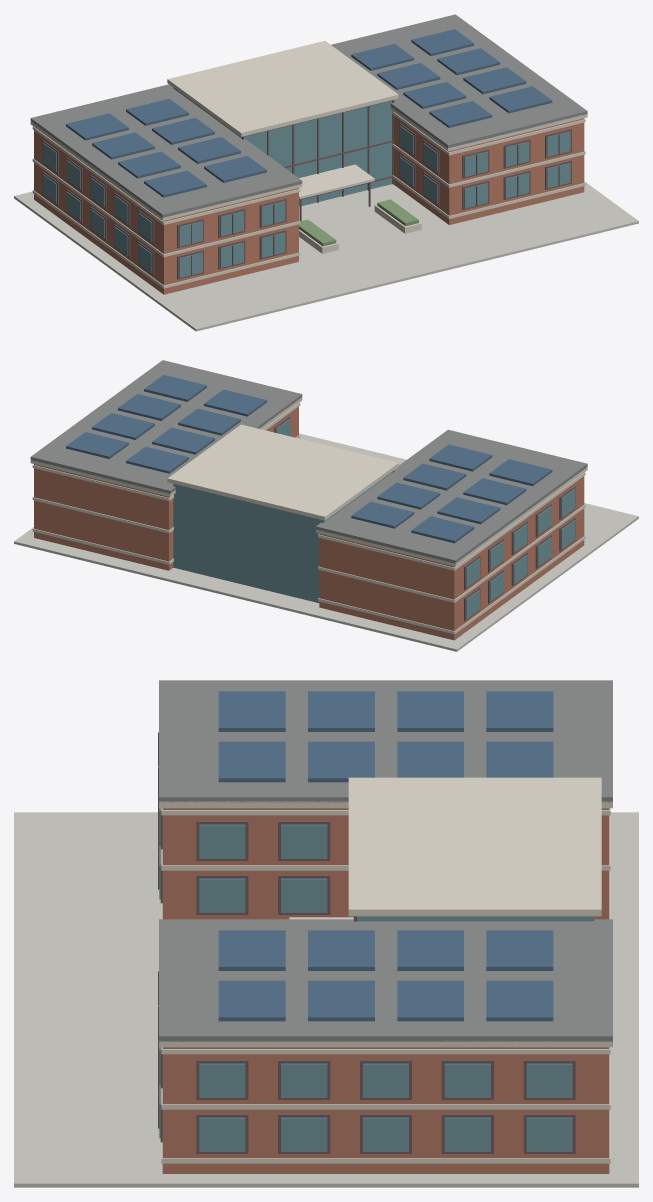
File: ai-center-concept.glb
3 renders of one model, top to bottom at view 1: azimuth 30°, elevation 25°; view 2: azimuth 150°, elevation 25°; view 3: azimuth 270°, elevation 25°, orthographic. The views are drawn at different scales.
Parts seen in each view (by area): view 1: Courtyard paving, Roof (×2), Brick wing (×2), Solar roof module (×16), Central roof, Central glass atrium, Window glass (×12), Stone horizontal band (×6), Stone roof fascia (×2), Entry canopy, Planting (×2); view 2: Brick wing (×2), Roof (×2), Solar roof module (×16), Central glass atrium, Central roof, Courtyard paving, Stone horizontal band (×6), Stone roof fascia (×2); view 3: Courtyard paving, Roof (×2), Solar roof module (×16), Brick wing (×2), Central roof, Side glass (×10), Stone horizontal band (×5), Courtyard glass (×4), Stone roof fascia (×2), Central glass atrium.
Boxes of the visible parts, x1,y1,x2,y2 form: Courtyard paving: (14, 181, 638, 331); Roof (×2): (30, 14, 587, 217); Brick wing (×2): (34, 115, 584, 294); Solar roof module (×16): (66, 29, 552, 197); Central roof: (167, 41, 398, 136); Central glass atrium: (173, 87, 392, 206); Window glass (×12): (179, 131, 570, 277); Stone horizontal band (×6): (32, 111, 585, 288); Stone roof fascia (×2): (30, 106, 587, 220); Entry canopy: (299, 164, 374, 199); Planting (×2): (299, 199, 418, 246); Brick wing (×2): (34, 406, 584, 640); Roof (×2): (30, 360, 587, 563); Solar roof module (×16): (66, 375, 552, 543); Central glass atrium: (173, 471, 392, 602); Central roof: (167, 424, 398, 520); Courtyard paving: (14, 433, 638, 651); Stone horizontal band (×6): (32, 402, 585, 634); Stone roof fascia (×2): (30, 397, 587, 566); Courtyard paving: (14, 812, 638, 1187); Roof (×2): (159, 680, 612, 1041); Solar roof module (×16): (218, 691, 553, 1021); Brick wing (×2): (162, 808, 609, 1173); Central roof: (348, 777, 601, 916); Side glass (×10): (199, 1063, 572, 1151); Stone horizontal band (×5): (161, 808, 610, 1163); Courtyard glass (×4): (199, 824, 327, 912); Stone roof fascia (×2): (159, 801, 612, 1047); Central glass atrium: (357, 916, 594, 921).
Size of the model in its own units: 59 by 11.75 by 42.
